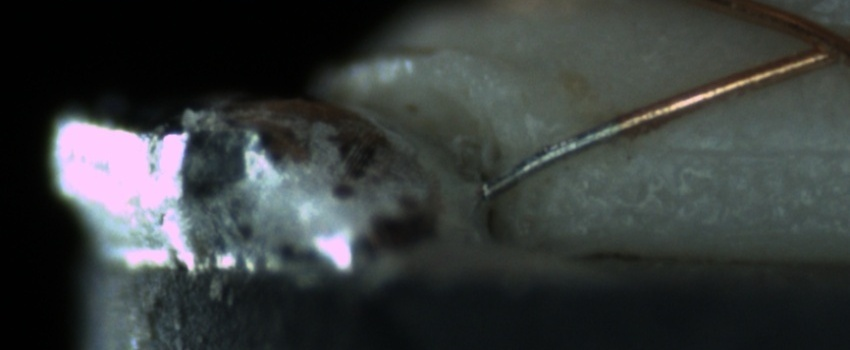CL: (774, 11, 849, 77)
DL: (631, 120, 850, 179)
TS: (481, 119, 623, 194)
